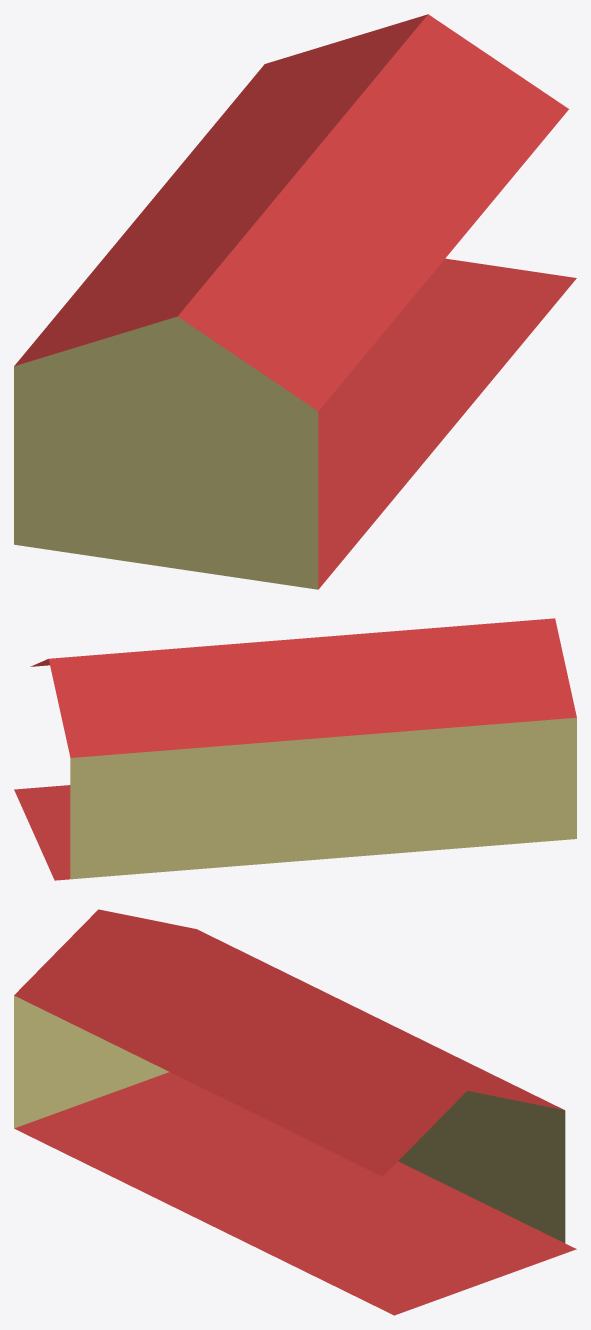
3 views of the same model, one above another, from view 1: azimuth 30°, elevation 25°; view 2: azimuth 150°, elevation 25°; view 3: azimuth 270°, elevation 25° (orthographic). The views are drawn at different scales.
Visible parts, largest first — view 1: group_3, group_4, group_5; view 2: group_4, group_3, group_5; view 3: group_3, group_5, group_4.
Boxes of the visible parts, <box> form: group_3: <box>14,14,568,411</box>; group_4: <box>14,316,318,589</box>; group_5: <box>318,258,576,589</box>; group_4: <box>70,717,576,879</box>; group_3: <box>30,618,576,757</box>; group_5: <box>14,785,70,880</box>; group_3: <box>14,909,564,1176</box>; group_5: <box>14,1072,576,1315</box>; group_4: <box>14,995,565,1242</box>.
Bounding box in the file's own units: 16.24 × 15.25 × 5.63.
